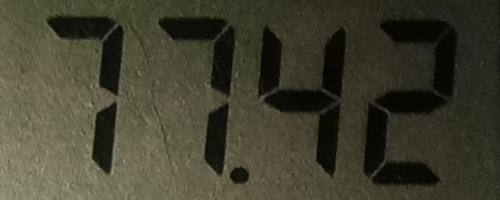.: (226, 163, 256, 187)
